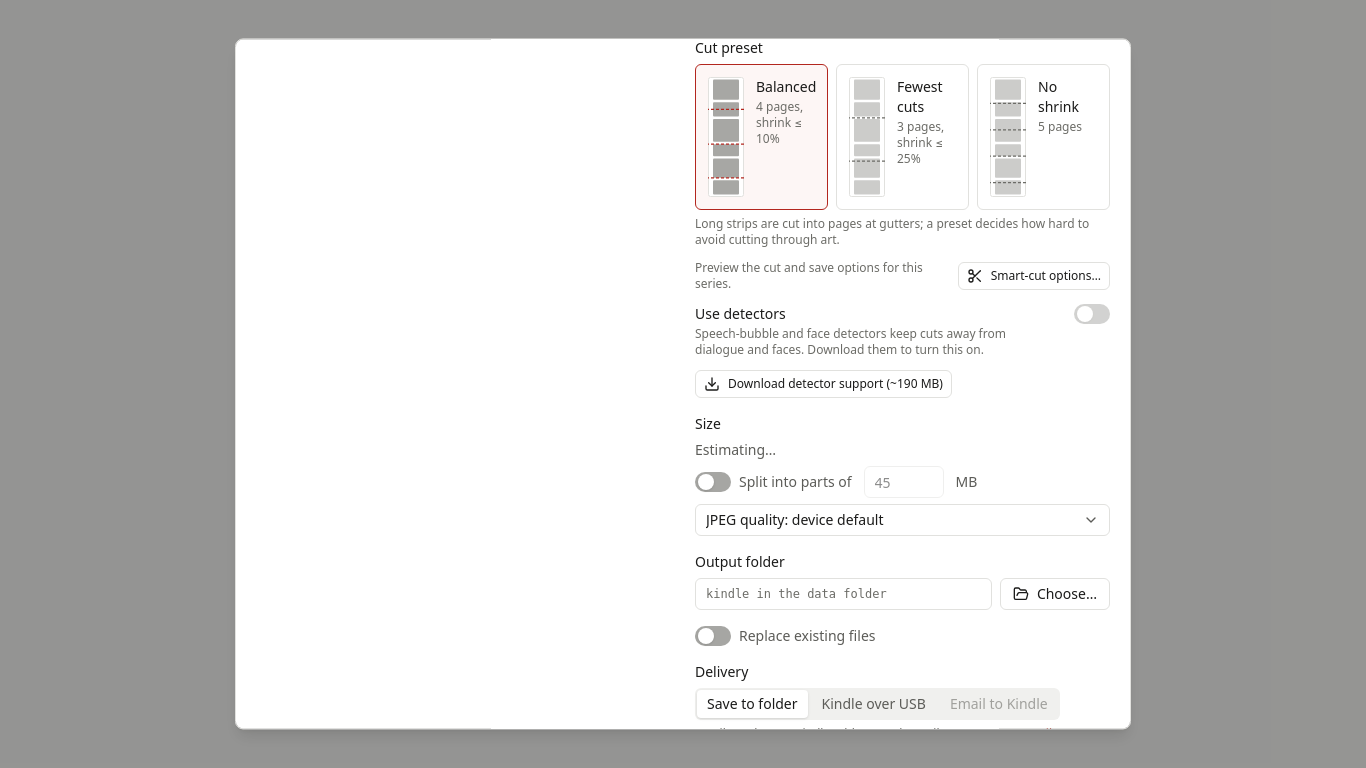
export dialog: detector support › downloads detector support from the dialog and turns the switch on without a restart
Later steps or results of the test are not shown.
(page scrolled)
Expected: the text "Download them to turn this on" is shown, [695, 325, 1006, 358]
Expected: the switch named "Use detectors" is disabled, [1074, 304, 1110, 324]
Click the button "Download detector support (~190 MB)" at (824, 384), box [695, 370, 952, 398]
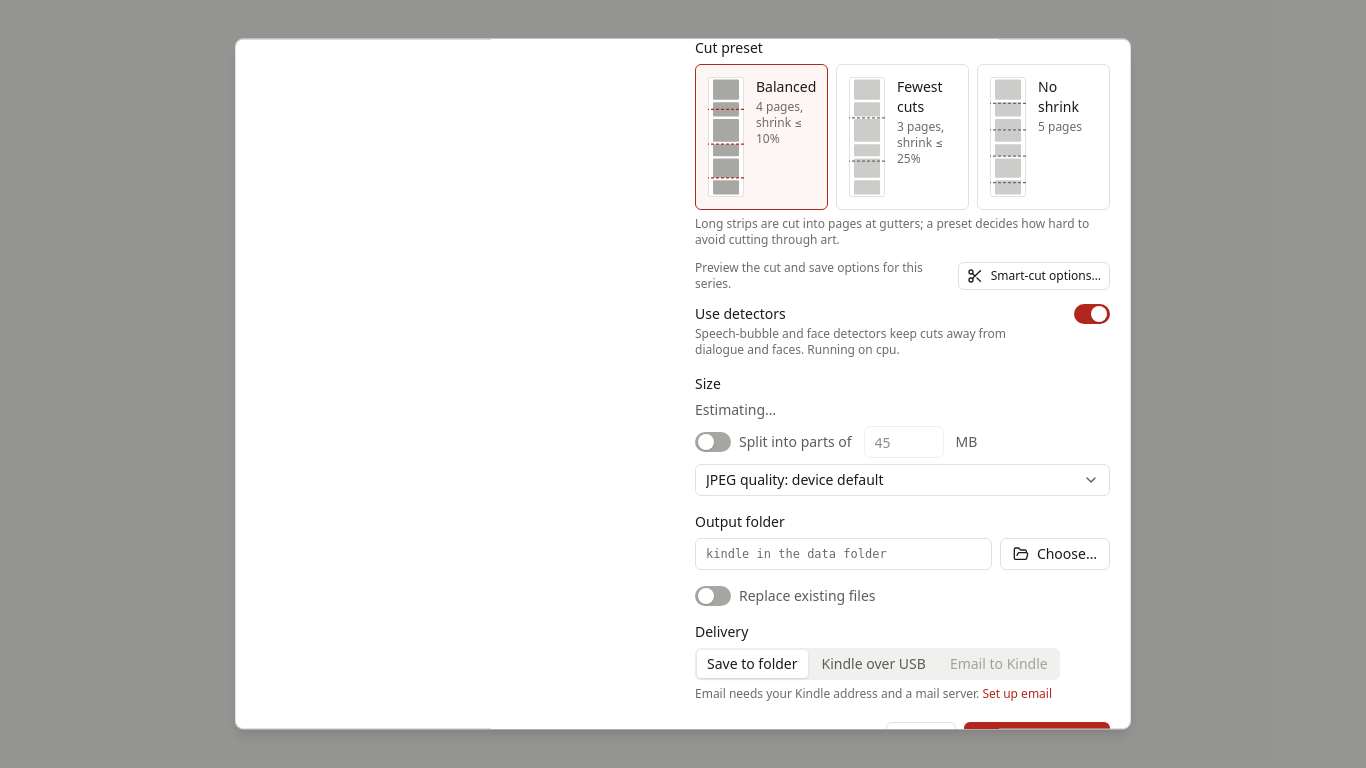
Expected: the switch named "Use detectors" is enabled, [1074, 304, 1110, 324]
